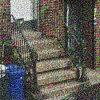stairs: (11, 33, 89, 94)
